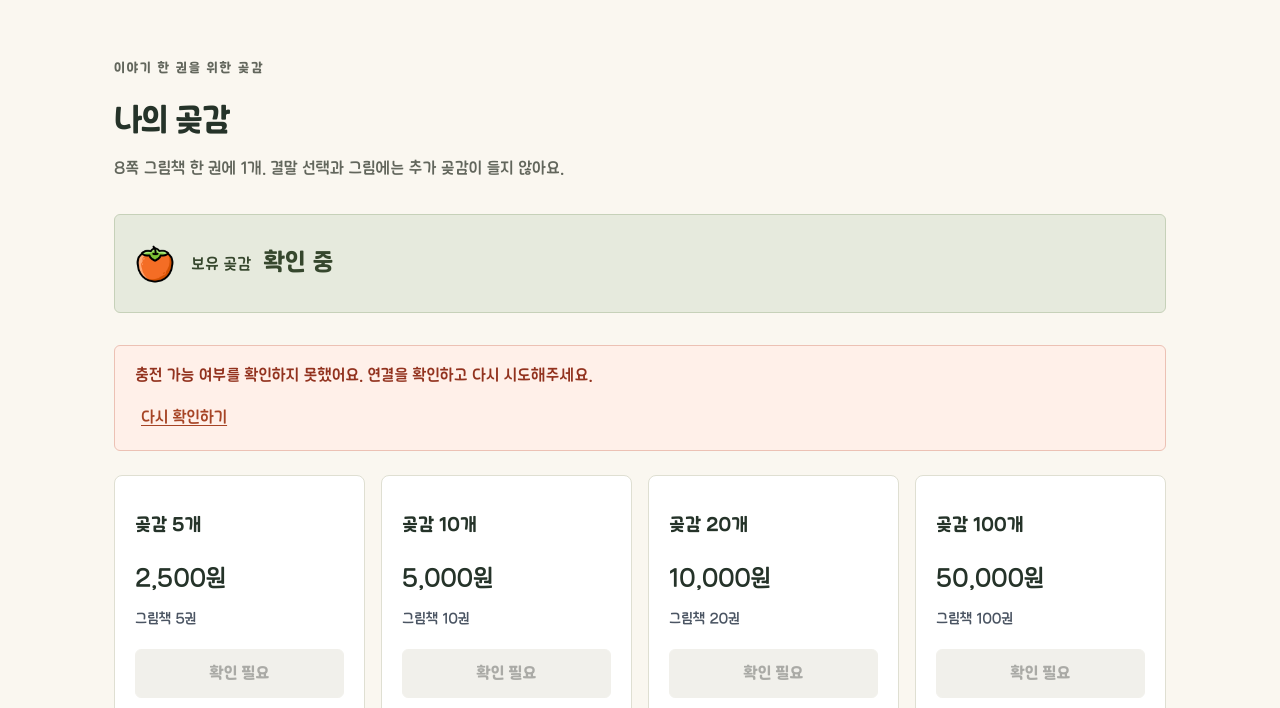
Test case: authenticated account QA › distinguishes a failed payment config request and lets it recover
Check: the text "곶감 충전은 준비 중이에요" is not shown
Click the button "다시 확인하기". click: (184, 418)
box: [135, 403, 233, 434]
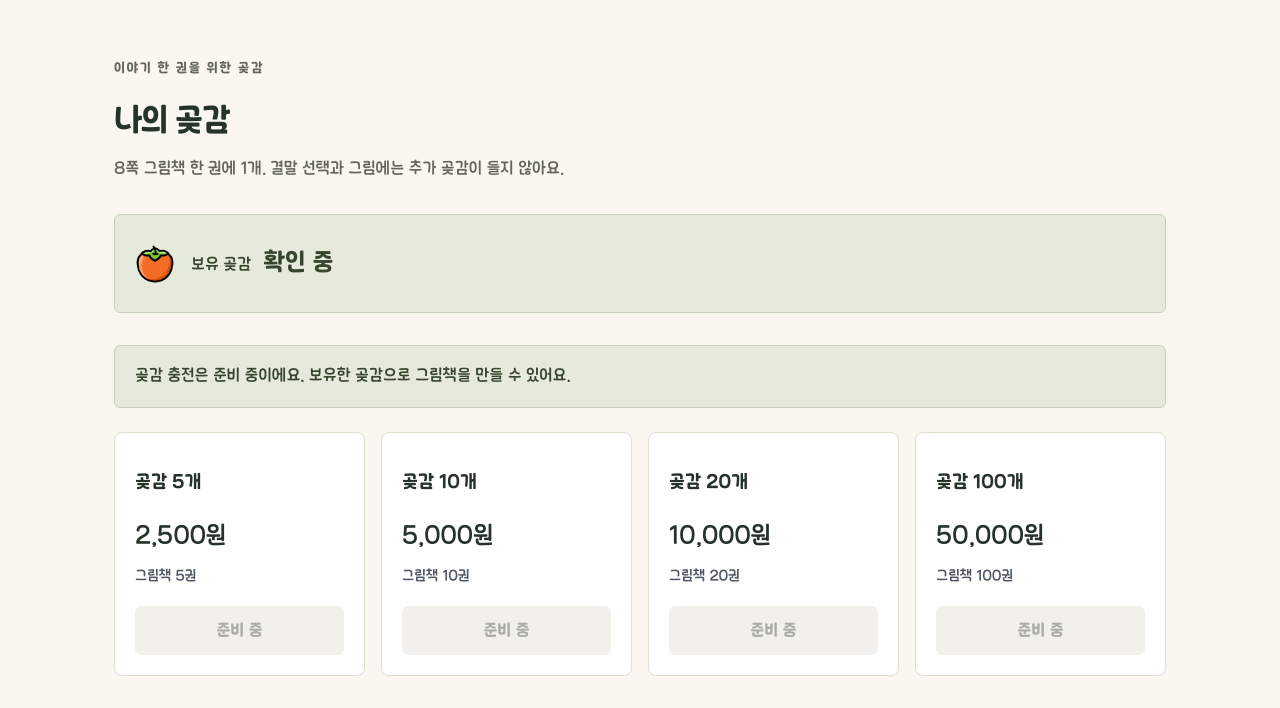
Check: the text "곶감 충전은 준비 중이에요. 보유한 곶감으로 그림책을 만들 수 있어요." is shown, box [114, 345, 1166, 408]
Check: the message "충전 가능 여부를 확인하지 못했어요. 연결을 확인하고 다시 시도해주세요. 다시 확인하기" is gone
